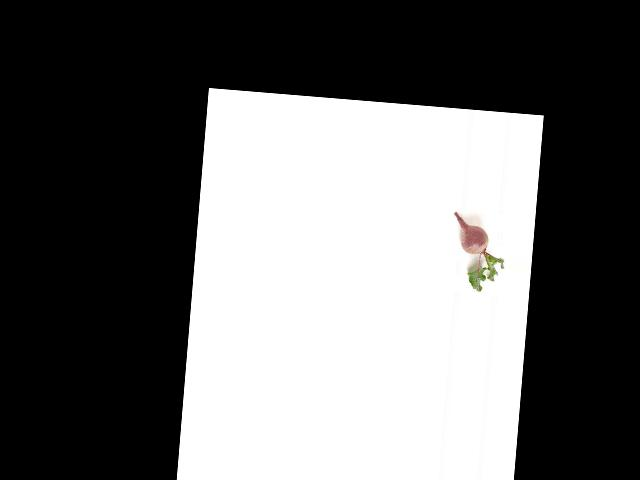beet: (448, 212, 508, 293)
